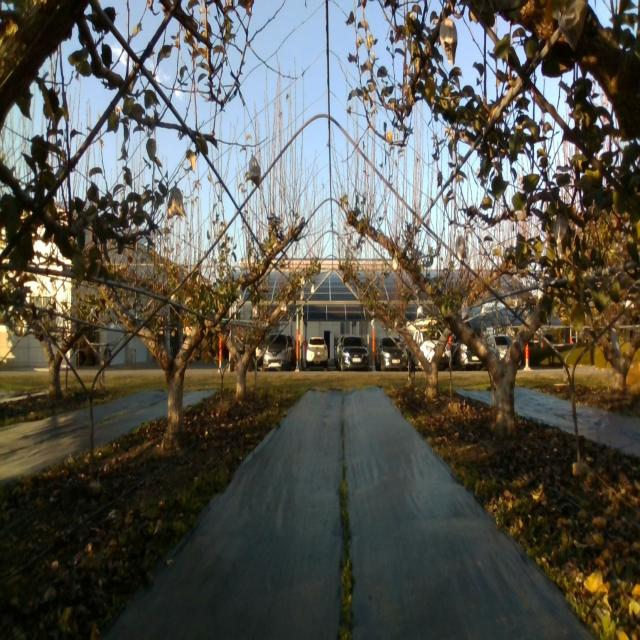pearbags: (440, 19, 458, 66), (167, 187, 187, 219), (249, 154, 261, 189), (455, 235, 467, 261)
